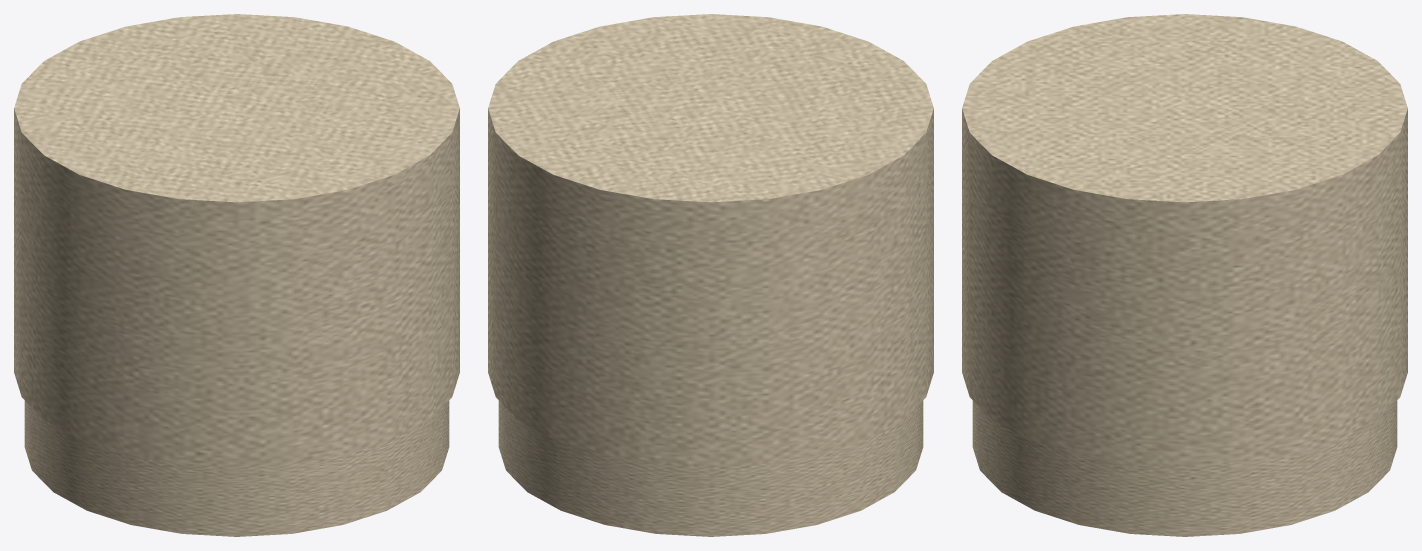
File: armchair.glb
The picture shows the model from 3 angles, left to right: view 1: azimuth 30°, elevation 25°; view 2: azimuth 150°, elevation 25°; view 3: azimuth 270°, elevation 25°; orthographic projection.
Visible parts, largest first — view 1: back, base.001; view 2: back, base.001; view 3: back, base.001.
Part boxes in pixels (bbox=[...]): back: bbox=[14, 14, 459, 466]; base.001: bbox=[24, 400, 449, 536]; back: bbox=[488, 14, 933, 466]; base.001: bbox=[498, 400, 923, 536]; back: bbox=[962, 14, 1407, 466]; base.001: bbox=[972, 400, 1397, 536].
Bounding box in the file's own units: 0.84 × 0.705 × 0.84.
2 materials, 1 textured.
